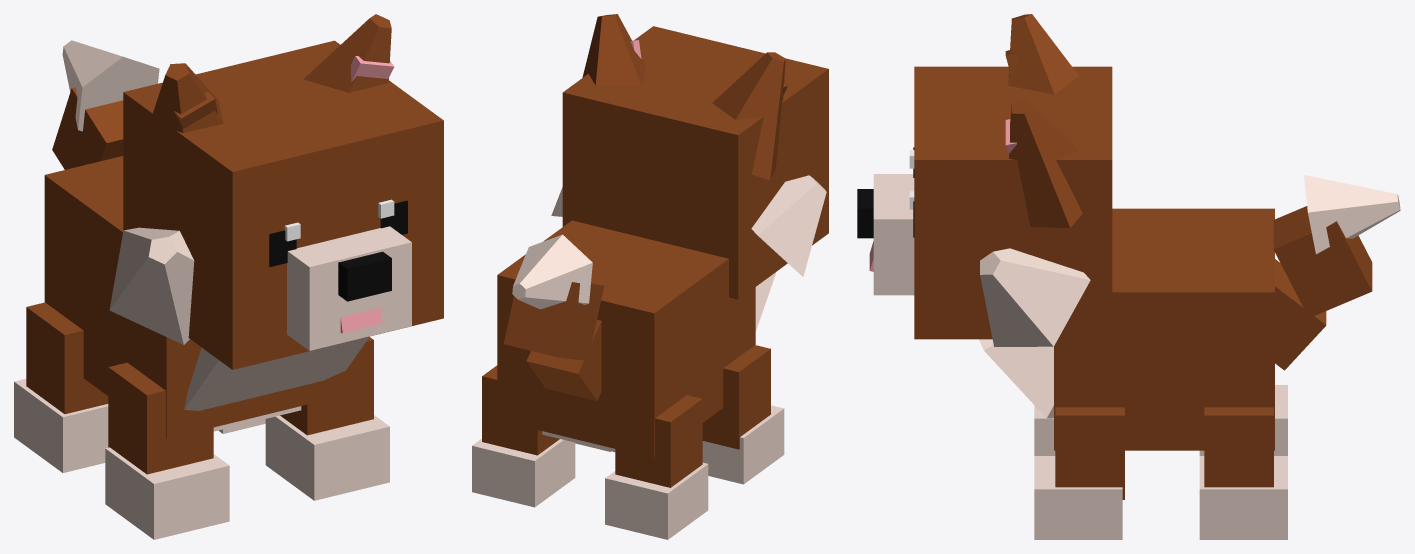
Rendered from wolfpup.fbx.
3 renders of one model, left to right at view 1: azimuth 30°, elevation 25°; view 2: azimuth 150°, elevation 25°; view 3: azimuth 270°, elevation 25°, orthographic. The views are drawn at different scales.
Visible parts, largest first — view 1: Head, Torso, Leg_FL, Muzzle, Leg_BL, Leg_FR, Ears, Tail, ChestFluff, Eyes; view 2: Head, Torso, Tail, Leg_BL, Leg_FL, Leg_BR, Ears, ChestFluff; view 3: Head, Torso, Tail, Leg_FR, Leg_BR, Ears, Muzzle, ChestFluff, Leg_BL, Leg_FL.
Part boxes in pixels (x1,y1,x2,y2): Head: (109,40,443,369); Torso: (44,156,355,438); Leg_FL: (105,362,229,539); Muzzle: (287,226,411,350); Leg_BL: (14,302,108,472); Leg_FR: (265,337,389,500); Ears: (131,14,394,198); Tail: (52,40,159,169); ChestFluff: (184,336,369,410); Eyes: (269,199,407,266); Head: (551,26,828,299); Torso: (497,220,755,458); Tail: (503,234,604,400); Leg_BL: (605,395,708,539); Leg_FL: (702,345,784,484); Leg_BR: (472,365,575,507); Ears: (582,14,787,180); ChestFluff: (755,272,776,331); Head: (914,66,1112,346); Torso: (1054,208,1274,450); Tail: (1273,175,1400,370); Leg_FR: (1034,407,1124,539); Leg_BR: (1199,407,1287,539); Ears: (1005,14,1082,228); Muzzle: (857,174,914,295); ChestFluff: (979,339,1053,418); Leg_BL: (1199,385,1287,455); Leg_FL: (1034,405,1055,455).
Bounding box in the file's own units: 136 × 204 × 233.
